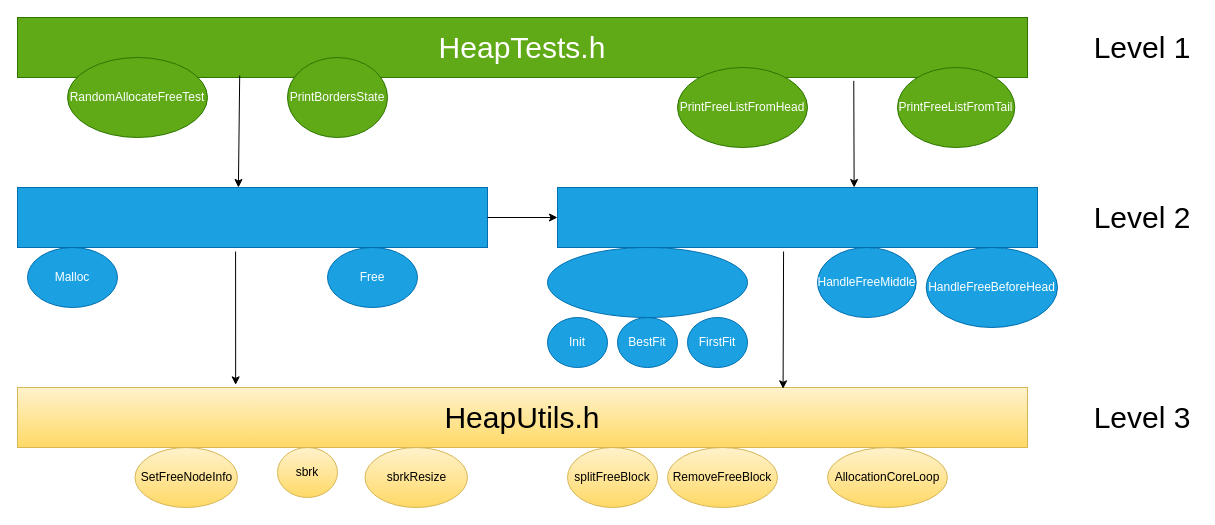
Image size: 1215x525. Some labels were removed from this diagram. Each missing label, with the centre of its shape:
HandleFreeAfterTail: (x=647, y=282)
HeapExtras.h: (x=797, y=217)
HeapManager.h: (x=252, y=217)
